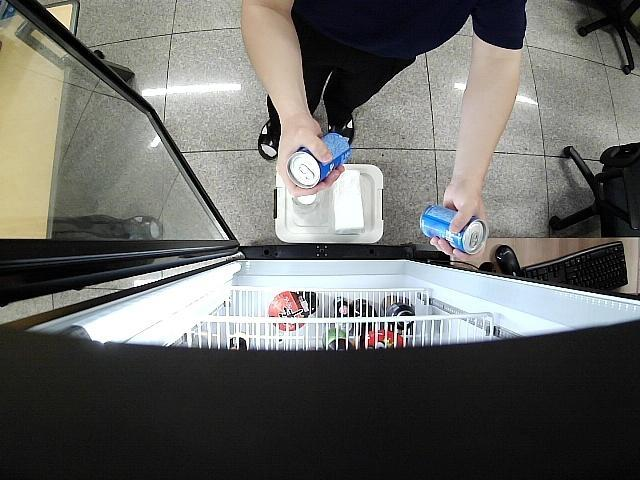15_letsbe: (286, 132, 352, 190), (420, 204, 488, 256)
